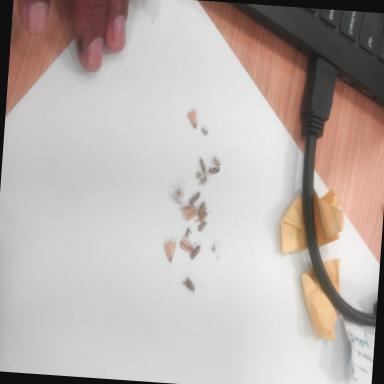pbw: (182, 278, 196, 292), (190, 244, 201, 260), (188, 191, 200, 204), (198, 158, 206, 172), (198, 200, 205, 216), (211, 156, 221, 166), (198, 210, 208, 220), (198, 220, 206, 232), (208, 166, 219, 173)
